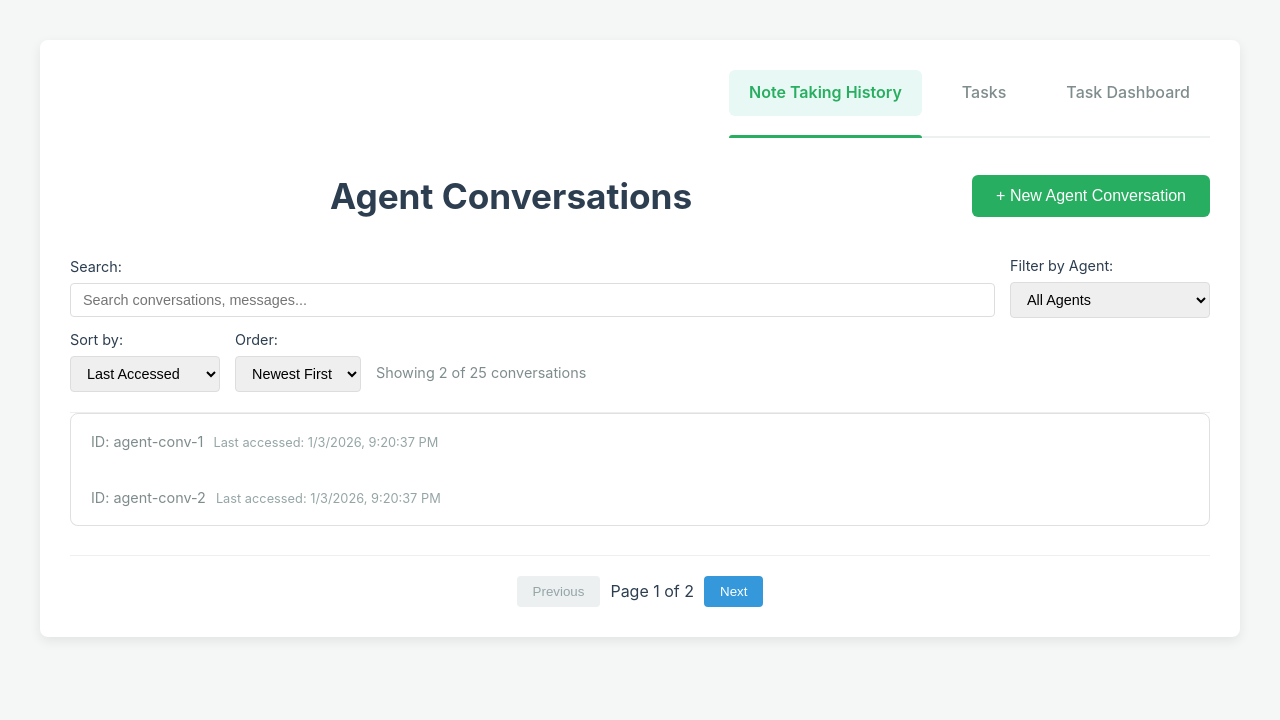
Test case: AgentConversationListView › Pagination › hides pagination controls when filters are active
Expected: the button "Next" is shown, [704,576,763,607]
// Apply a filter
Type "test" into the field labelled "Search:" at coordinates (532, 300), box [70,283,995,317]
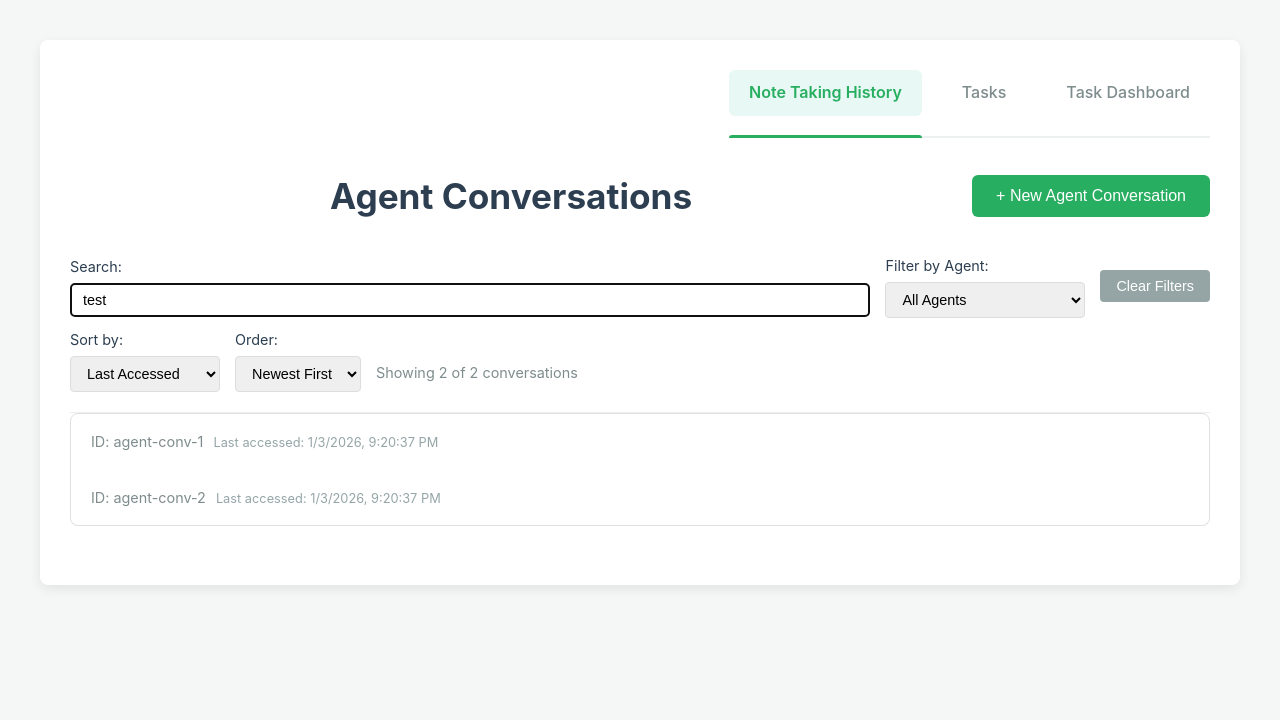
Expected: the button "Next" is gone
